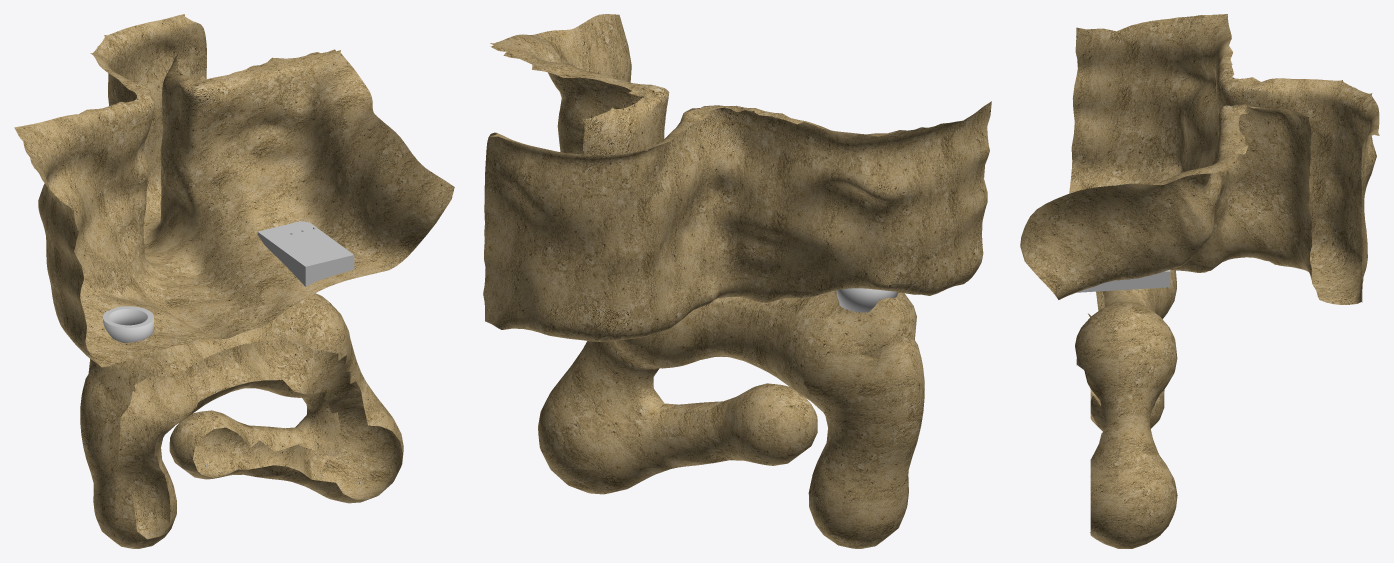
File: E0M1.Display.obj
3 renders of one model, left to right at view 1: azimuth 30°, elevation 25°; view 2: azimuth 150°, elevation 25°; view 3: azimuth 270°, elevation 25°, orthographic. The views are drawn at different scales.
Visible parts, largest first — view 1: World.Display; view 2: World.Display; view 3: World.Display.
Boxes of the visible parts, <box> form: World.Display: <box>14,14,454,548</box>; World.Display: <box>483,14,991,548</box>; World.Display: <box>1020,14,1379,548</box>.
Bounding box in the file's own units: 25.52 × 27.78 × 22.99.
